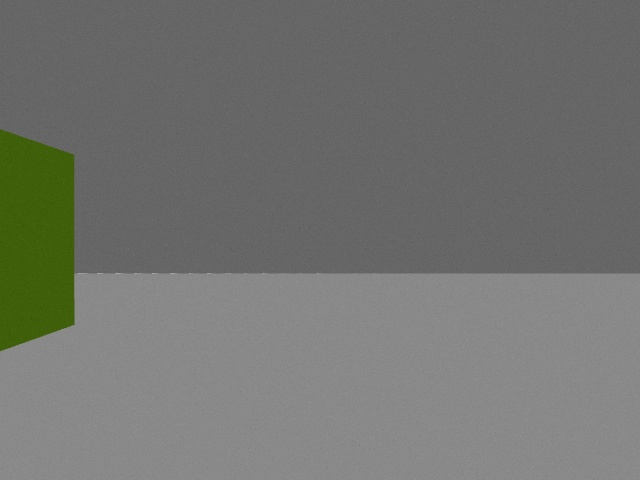green_drop_zone: (0, 129, 75, 351)
